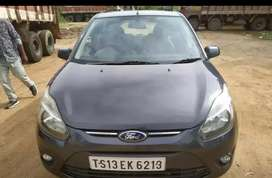TS13EK6213: (89, 156, 165, 170)
